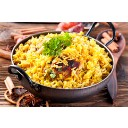briyani: (23, 36, 104, 84)
